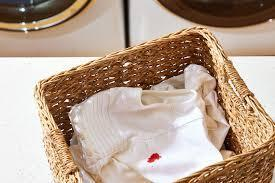blood: (146, 150, 161, 165)
